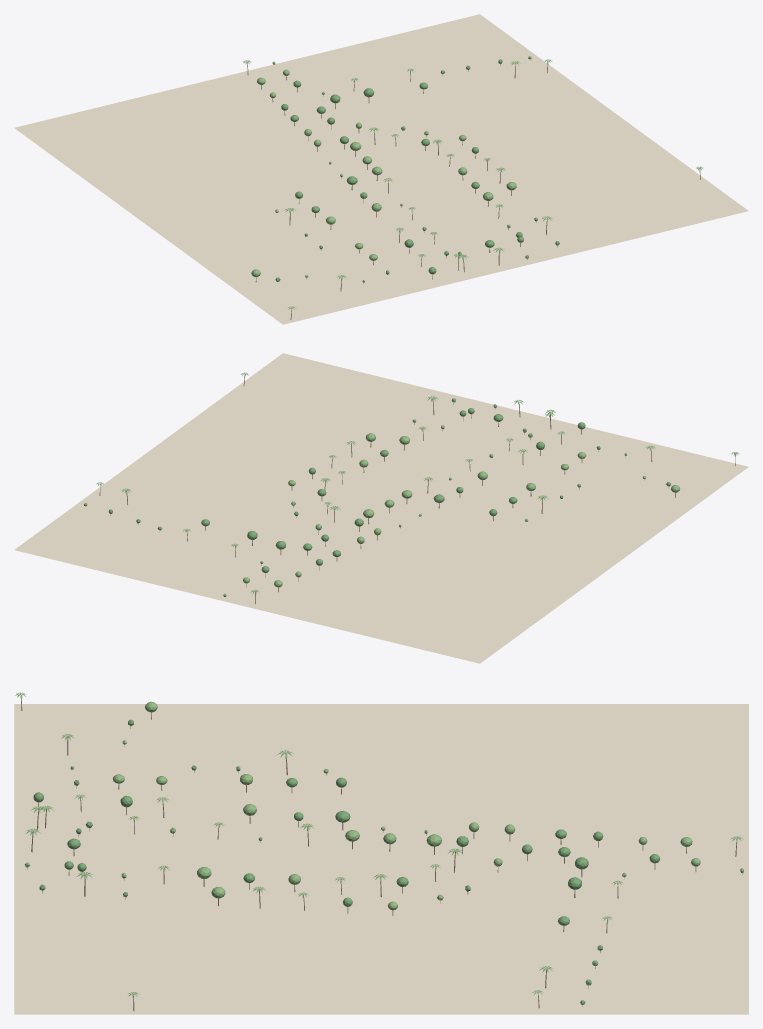
Rendered from nature_4_-3.glb.
3 views of the same model, one above another, from view 1: azimuth 30°, elevation 25°; view 2: azimuth 150°, elevation 25°; view 3: azimuth 270°, elevation 25° (orthographic). The views are drawn at different scales.
Parts seen in each view (by area): view 1: ground, foliage_a, foliage_b, trunk, palm_leaf; view 2: ground, foliage_a, foliage_b, trunk, palm_leaf; view 3: ground, foliage_a, foliage_b, trunk, palm_leaf.
Boxes of the visible parts, x1,y1,x2,y2 form: ground: (14, 14, 748, 324); foliage_a: (275, 56, 559, 282); foliage_b: (251, 61, 516, 277); trunk: (247, 62, 700, 319); palm_leaf: (243, 59, 702, 310); ground: (14, 353, 748, 663); foliage_a: (84, 398, 670, 572); foliage_b: (223, 425, 680, 596); trunk: (99, 375, 735, 604); palm_leaf: (96, 372, 739, 594); ground: (14, 704, 748, 1014); foliage_a: (25, 719, 660, 1004); foliage_b: (113, 701, 743, 910); trunk: (20, 696, 742, 1010); palm_leaf: (15, 692, 743, 997).
Bounding box in the file's own units: 250 × 8.84 × 250.
